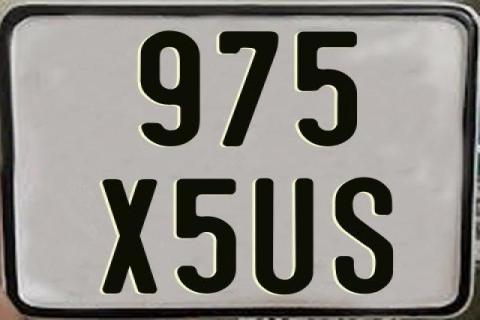0: (176, 176, 241, 294), (137, 28, 202, 145), (296, 31, 357, 148), (218, 30, 279, 146)
S: (335, 177, 396, 295)
U: (252, 176, 311, 295)
X: (99, 180, 159, 296)
